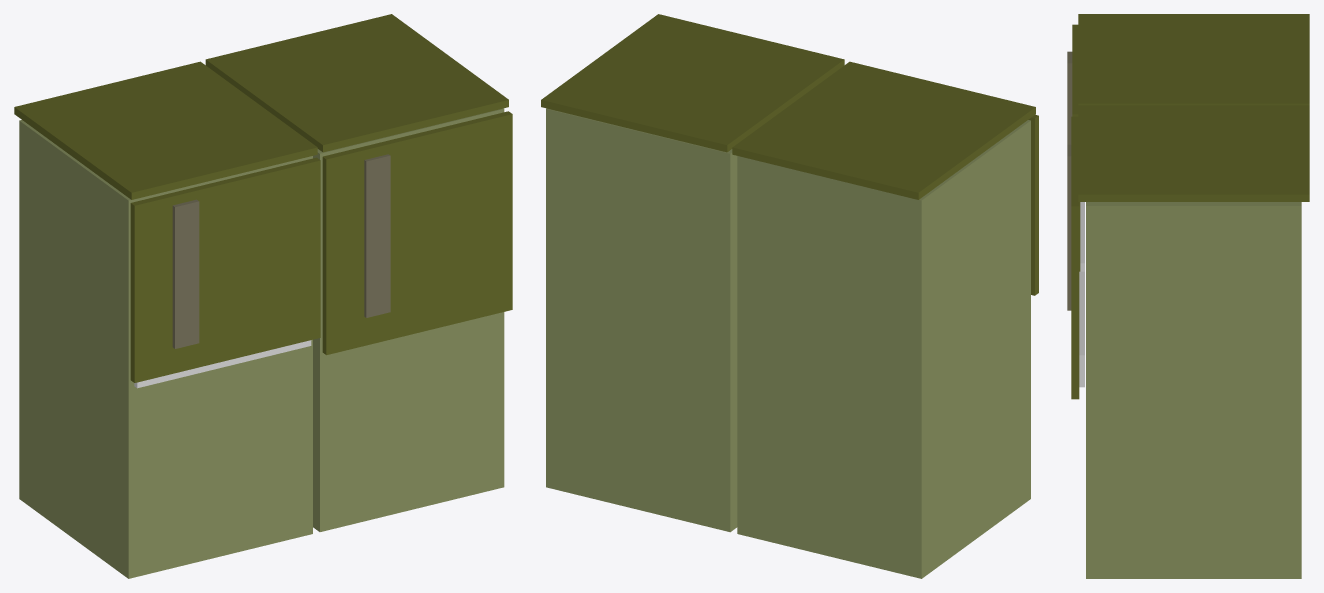
File: SM_HescoCorto2_v4_Red_e0_Sano_LOD1.fbx
3 views of the same model, side by side, from view 1: azimuth 30°, elevation 25°; view 2: azimuth 150°, elevation 25°; view 3: azimuth 270°, elevation 25° (orthographic).
Parts seen in each view (by area): view 1: SM_hesco_piezas_v76_LOD1; view 2: SM_hesco_piezas_v76_LOD1; view 3: SM_hesco_piezas_v76_LOD1.
Boxes of the visible parts, x1=… form: SM_hesco_piezas_v76_LOD1: x1=14, y1=14, x2=512, y2=578; SM_hesco_piezas_v76_LOD1: x1=541, y1=14, x2=1038, y2=578; SM_hesco_piezas_v76_LOD1: x1=1067, y1=14, x2=1309, y2=578.
Bounding box in the file's own units: 2.19 × 2.16 × 1.23.
